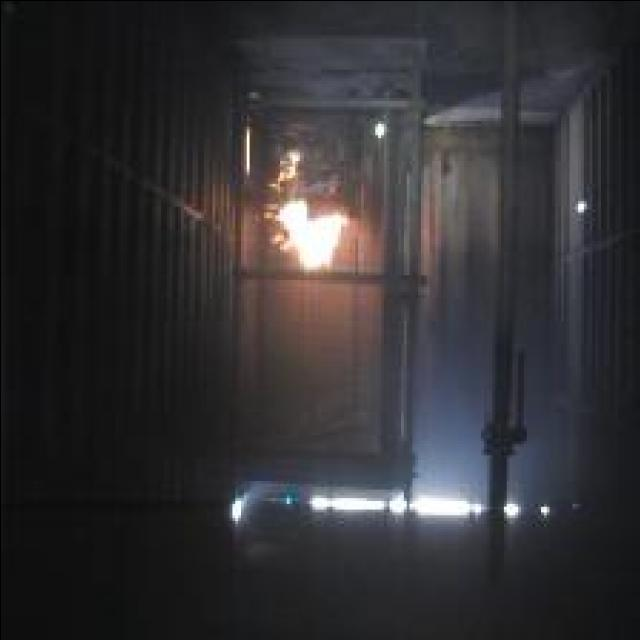Fire: (272, 200, 346, 268)
